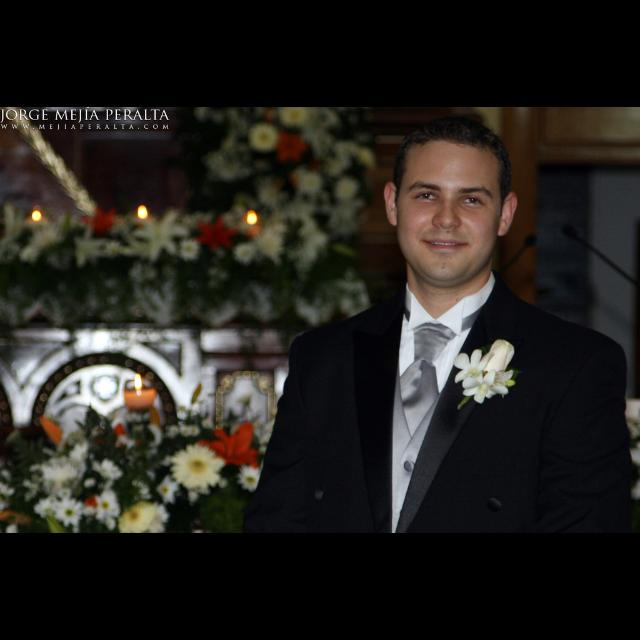Flower: (1, 108, 370, 322), (1, 423, 270, 533), (452, 338, 516, 404), (158, 442, 230, 488)
